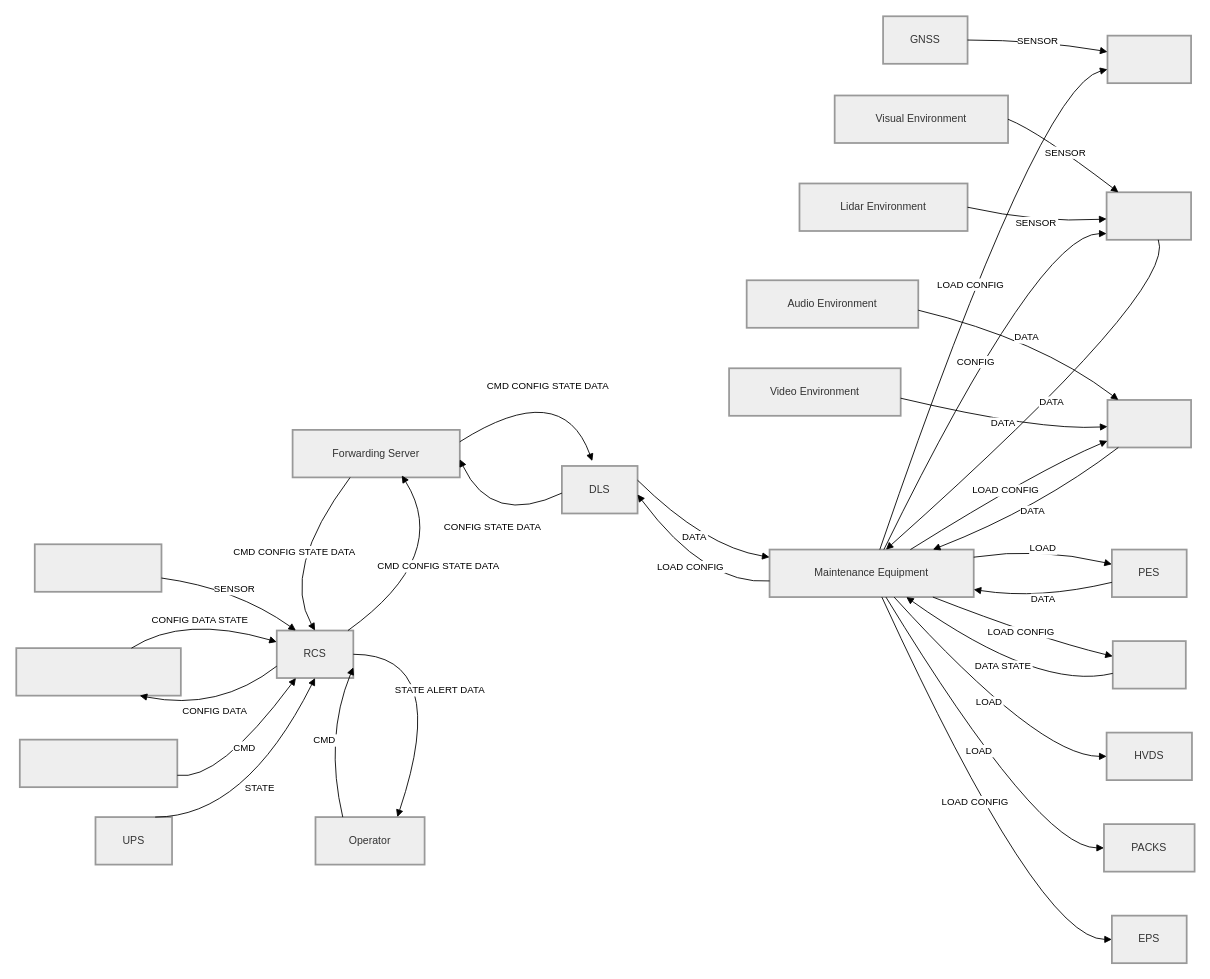
Image size: 1210x979. Some labels were removed from this diagram. Here are the shapes that lost their labels. From the top down, the centre of each, then its label:
At point 1149,59: "NAVS".
At point 1148,215: "DAAS".
At point 1149,423: "AVCS".
At point 97,567: "RTK Service".
At point 98,671: "Big Data Platform".
At point 1148,664: "ICP".
At point 98,763: "Debug Computer".
